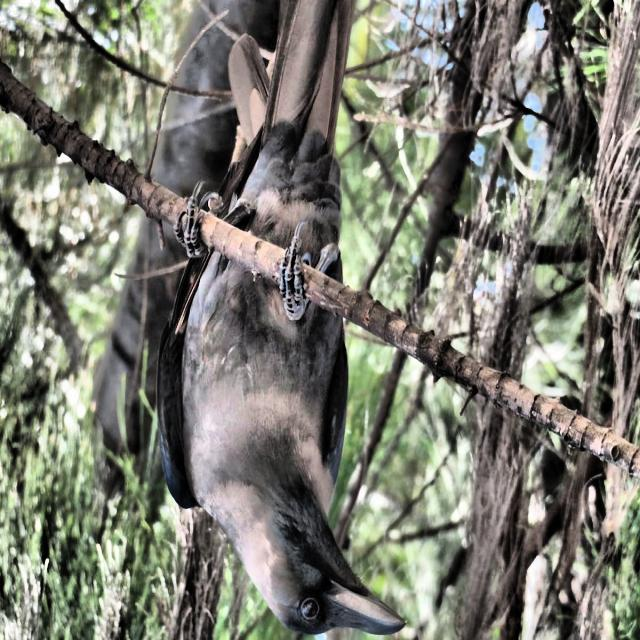crow: (144, 1, 416, 640)
